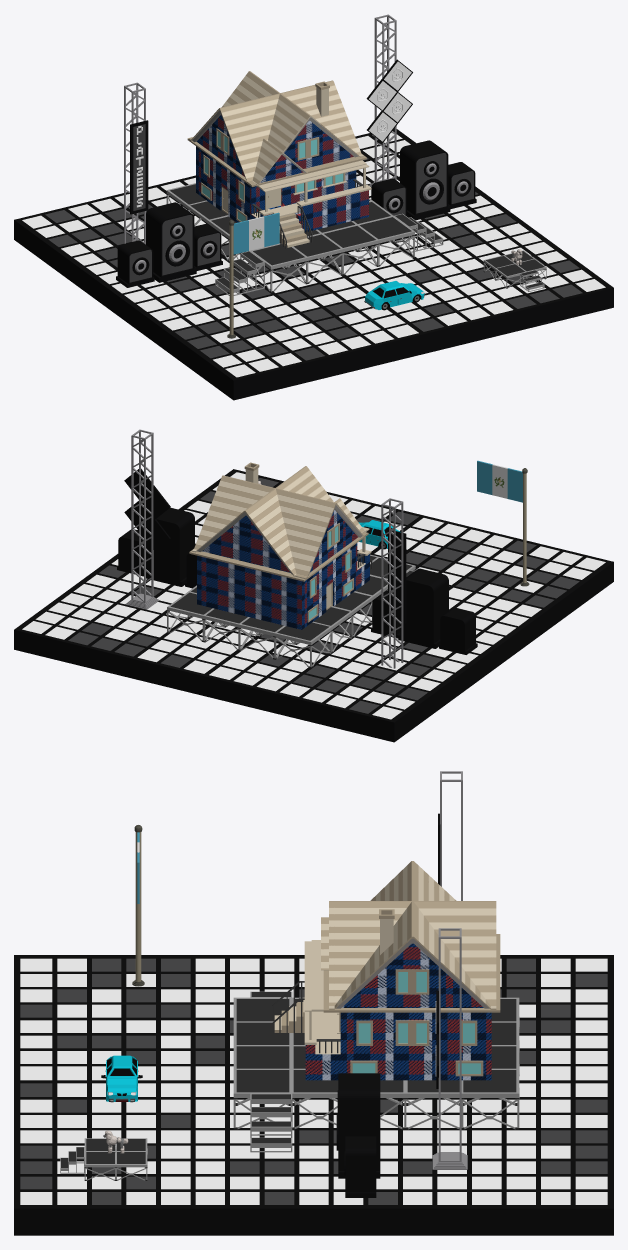
The picture shows the model from 3 angles, top to bottom: view 1: azimuth 30°, elevation 25°; view 2: azimuth 150°, elevation 25°; view 3: azimuth 270°, elevation 25°; orthographic projection. The views are drawn at different scales.
Parts seen in each view (by area): view 1: Cube.008, Cube.171, OBJRANDOM_GUATEMALAN_FLAG, VEHICLES_CAR; view 2: Cube.008, Cube.171, OBJRANDOM_GUATEMALAN_FLAG, VEHICLES_CAR; view 3: Cube.008, Cube.171, VEHICLES_CAR, OBJRANDOM_GUATEMALAN_FLAG.
Part boxes in pixels (box(x1,y1,x2,y2)): Cube.008: box(14, 14, 613, 400); Cube.171: box(187, 71, 371, 248); OBJRANDOM_GUATEMALAN_FLAG: box(227, 212, 279, 338); VEHICLES_CAR: box(364, 281, 424, 310); Cube.008: box(14, 429, 613, 742); Cube.171: box(189, 462, 372, 629); OBJRANDOM_GUATEMALAN_FLAG: box(477, 460, 529, 586); VEHICLES_CAR: box(358, 520, 400, 549); Cube.008: box(14, 771, 613, 1235); Cube.171: box(272, 861, 500, 1080); VEHICLES_CAR: box(101, 1055, 142, 1102); OBJRANDOM_GUATEMALAN_FLAG: box(132, 825, 144, 986).
Size of the model in its own units: 4000 by 2073 by 4000.
39 materials, 2 textured.
